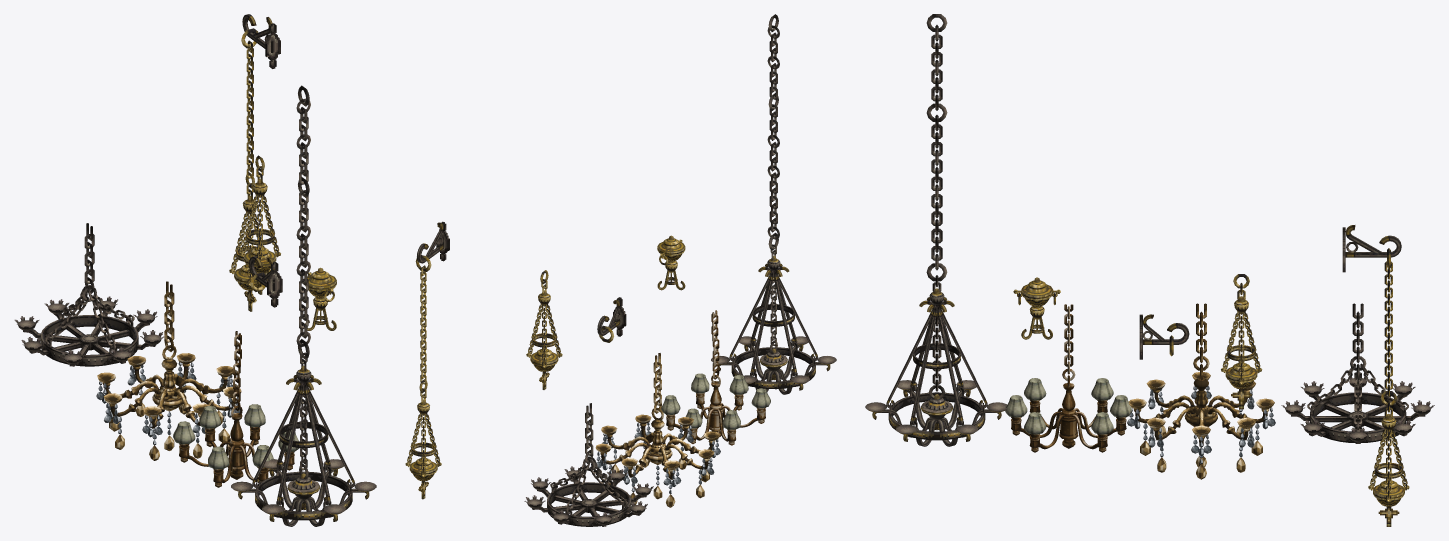
The model's file is EnvObjMD_Chandelier_A.FBX.
The picture shows the model from 3 angles, left to right: view 1: azimuth 30°, elevation 25°; view 2: azimuth 150°, elevation 25°; view 3: azimuth 270°, elevation 25°; orthographic projection. The views are drawn at different scales.
Visible parts, largest first — view 1: EnvObjMD_Chandelier_D, EnvObjMD_Chandelier_B, EnvObjMD_Chandelier_A, EnvObjMD_Chandelier_C, EnvObjMD_Chandelier_D_IncenseBurner_A, EnvObjMD_Chandelier_D_IncenseBurner_A_Short, EnvObjMD_Chandelier_D_IncenseBurner_B, EnvObjMD_Chandelier_D_IncenseBurner_A_Short_Hook; view 2: EnvObjMD_Chandelier_D, EnvObjMD_Chandelier_B, EnvObjMD_Chandelier_A, EnvObjMD_Chandelier_C, EnvObjMD_Chandelier_D_IncenseBurner_A, EnvObjMD_Chandelier_D_IncenseBurner_A_Short, EnvObjMD_Chandelier_D_IncenseBurner_B, EnvObjMD_Chandelier_D_IncenseBurner_A_Short_Hook; view 3: EnvObjMD_Chandelier_D, EnvObjMD_Chandelier_B, EnvObjMD_Chandelier_A, EnvObjMD_Chandelier_C, EnvObjMD_Chandelier_D_IncenseBurner_A, EnvObjMD_Chandelier_D_IncenseBurner_A_Short, EnvObjMD_Chandelier_D_IncenseBurner_B, EnvObjMD_Chandelier_D_IncenseBurner_A_Short_Hook.
Boxes of the visible parts, <box> form: EnvObjMD_Chandelier_D: <box>231,85,376,526</box>; EnvObjMD_Chandelier_B: <box>96,281,242,460</box>; EnvObjMD_Chandelier_A: <box>14,223,163,366</box>; EnvObjMD_Chandelier_C: <box>173,331,299,487</box>; EnvObjMD_Chandelier_D_IncenseBurner_A: <box>229,14,280,311</box>; EnvObjMD_Chandelier_D_IncenseBurner_A_Short: <box>239,155,280,294</box>; EnvObjMD_Chandelier_D_IncenseBurner_B: <box>305,267,336,330</box>; EnvObjMD_Chandelier_D_IncenseBurner_A_Short_Hook: <box>249,256,282,307</box>; EnvObjMD_Chandelier_D: <box>711,14,836,394</box>; EnvObjMD_Chandelier_B: <box>595,353,720,507</box>; EnvObjMD_Chandelier_A: <box>524,403,653,526</box>; EnvObjMD_Chandelier_C: <box>661,310,770,445</box>; EnvObjMD_Chandelier_D_IncenseBurner_A: <box>405,221,449,499</box>; EnvObjMD_Chandelier_D_IncenseBurner_A_Short: <box>526,270,562,389</box>; EnvObjMD_Chandelier_D_IncenseBurner_B: <box>657,235,685,290</box>; EnvObjMD_Chandelier_D_IncenseBurner_A_Short_Hook: <box>597,297,626,342</box>; EnvObjMD_Chandelier_D: <box>865,14,1007,446</box>; EnvObjMD_Chandelier_B: <box>1127,303,1275,479</box>; EnvObjMD_Chandelier_A: <box>1281,303,1434,443</box>; EnvObjMD_Chandelier_C: <box>1005,304,1131,452</box>; EnvObjMD_Chandelier_D_IncenseBurner_A: <box>1342,225,1409,526</box>; EnvObjMD_Chandelier_D_IncenseBurner_A_Short: <box>1221,274,1262,409</box>; EnvObjMD_Chandelier_D_IncenseBurner_B: <box>1013,277,1060,339</box>; EnvObjMD_Chandelier_D_IncenseBurner_A_Short_Hook: <box>1139,314,1189,359</box>.
Bounding box in the file's own units: 940 × 1571 × 1780.
4 materials, 4 textured.
